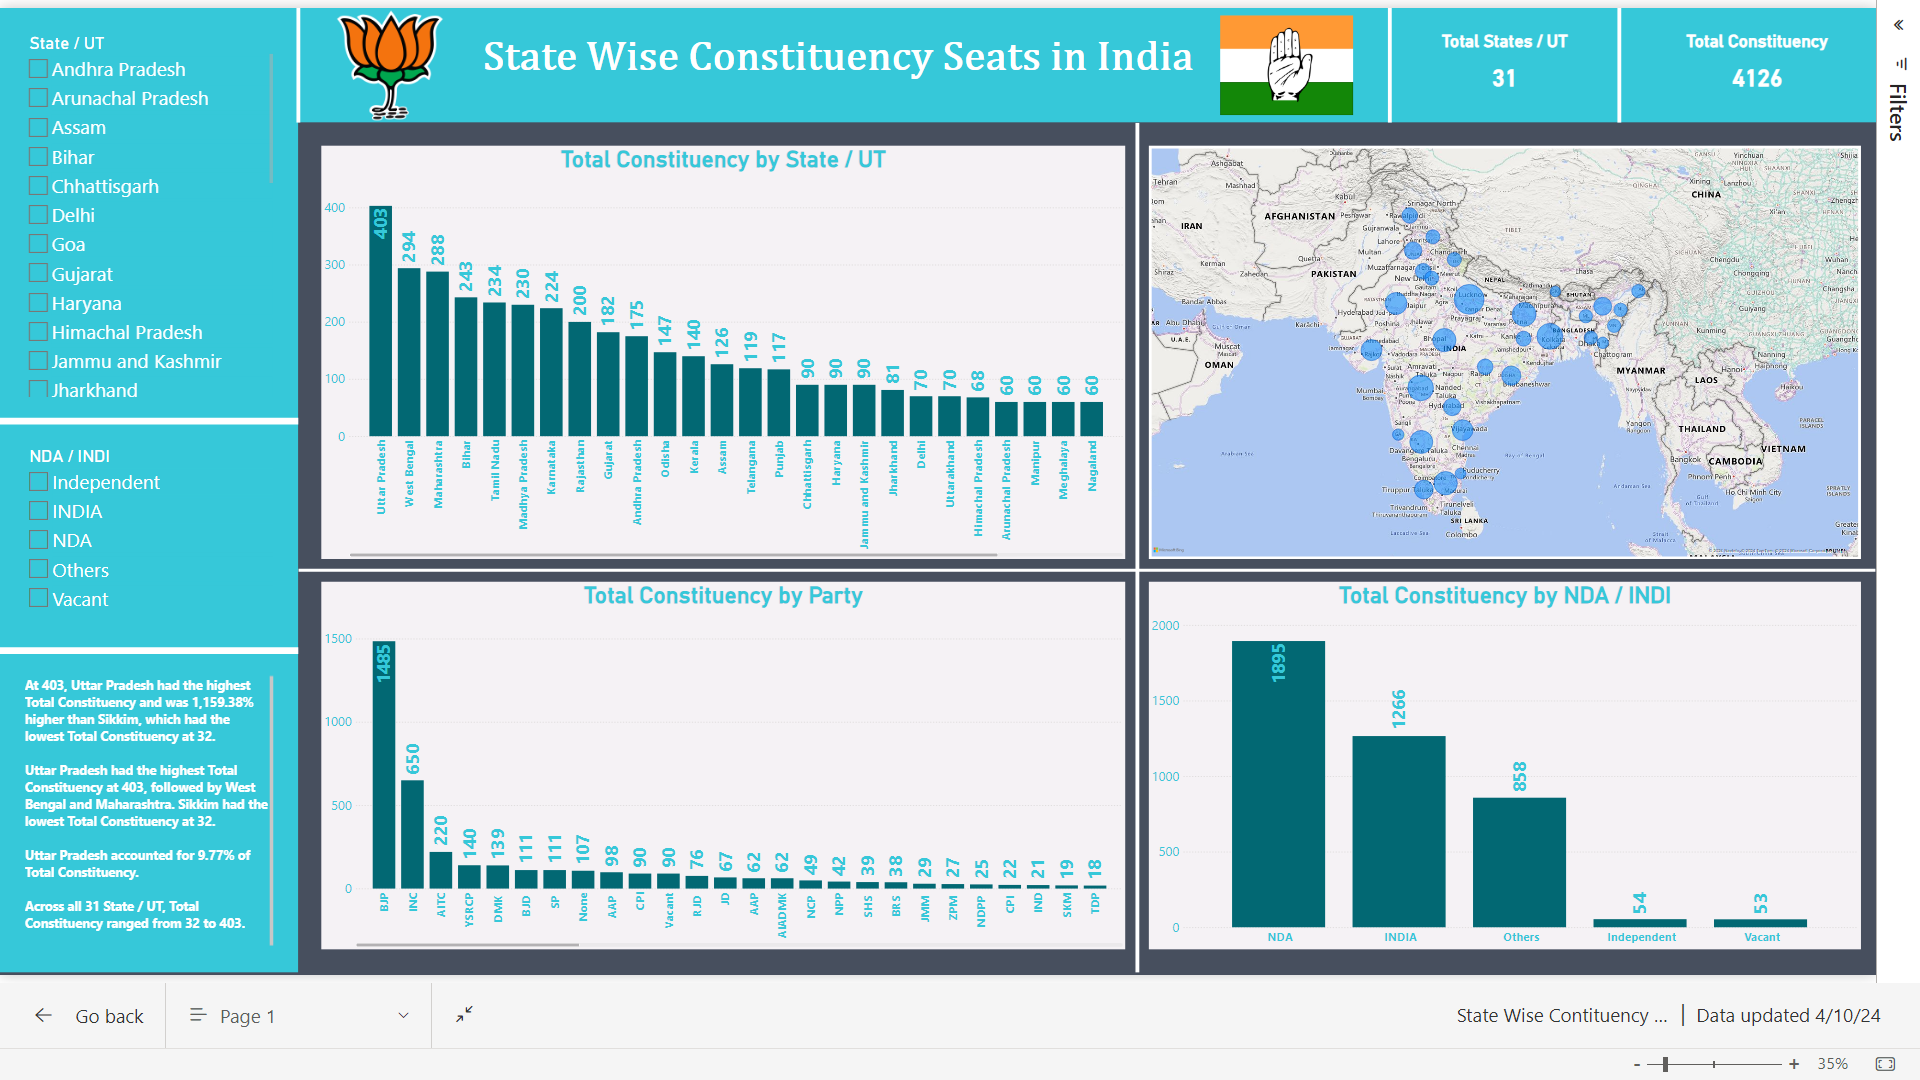

The dashboard page shown, as its layout file describes it:
{"tool":"powerbi","page":{"name":"Page 1","canvas":[3920,2020],"ordinal":0},"visuals":[{"type":"shape","box":[0,0,624,2016],"z":0},{"type":"shape","box":[609,0,3312,240],"z":1},{"type":"card","title":"Total States / UT","fields":{"Values":["Count(Data.State / UT)"]},"box":[2976,48,336,144],"z":2},{"type":"card","title":"Total Constituency","fields":{"Values":["Sum(Data.Total Constituency)"]},"box":[3456,48,432,144],"z":3},{"type":"clusteredColumnChart","fields":{"Category":["Data.State / UT"],"Y":["Sum(Data.Total Constituency)"]},"box":[672,288,1680,864],"z":4},{"type":"map","fields":{"Category":["Data.State / UT"],"Size":["Sum(Data.Total Constituency)"]},"box":[2400,288,1488,864],"z":5},{"type":"clusteredColumnChart","fields":{"Y":["Sum(Data.Total Constituency)"],"Category":["Data.Party"]},"box":[672,1200,1680,768],"z":6},{"type":"clusteredColumnChart","fields":{"Y":["Sum(Data.Total Constituency)"],"Category":["Data.NDA / INDI"]},"box":[2400,1200,1488,768],"z":7},{"type":"slicer","fields":{"Values":["Data.State / UT"]},"box":[48,48,528,768],"z":8},{"type":"slicer","fields":{"Values":["Data.NDA / INDI"]},"box":[48,912,528,384],"z":9},{"type":"textbox","box":[48,1392,528,576],"z":10},{"type":"shape","box":[0,720,624,288],"z":11},{"type":"shape","box":[0,1296,624,96],"z":12},{"type":"shape","box":[576,0,96,240],"z":13},{"type":"shape","box":[2352,240,48,1776],"z":14},{"type":"shape","box":[624,1152,3296,48],"z":15},{"type":"textbox","box":[960,48,1584,144],"z":16},{"type":"image","box":[672,0,288,240],"z":17},{"type":"image","box":[2544,0,288,240],"z":18},{"type":"shape","box":[2880,0,48,240],"z":19},{"type":"shape","box":[3360,0,48,240],"z":20}]}

Visuals, with their boxes in screenshot pixels (x1, y1, x2, y2):
shape: x1=0, y1=0, x2=291, y2=974
shape: x1=284, y1=0, x2=1884, y2=116
"Total States / UT" card: x1=1427, y1=23, x2=1590, y2=93
"Total Constituency" card: x1=1659, y1=23, x2=1868, y2=93
clusteredColumnChart - Data.State / UT x Sum(Data.Total Constituency): x1=315, y1=139, x2=1126, y2=556
map - Data.State / UT x Sum(Data.Total Constituency): x1=1149, y1=139, x2=1868, y2=556
clusteredColumnChart - Sum(Data.Total Constituency) x Data.Party: x1=315, y1=580, x2=1126, y2=951
clusteredColumnChart - Sum(Data.Total Constituency) x Data.NDA / INDI: x1=1149, y1=580, x2=1868, y2=951
slicer - Data.State / UT: x1=13, y1=23, x2=268, y2=394
slicer - Data.NDA / INDI: x1=13, y1=441, x2=268, y2=626
textbox: x1=13, y1=672, x2=268, y2=951
shape: x1=0, y1=348, x2=291, y2=487
shape: x1=0, y1=626, x2=291, y2=672
shape: x1=268, y1=0, x2=315, y2=116
shape: x1=1126, y1=116, x2=1149, y2=974
shape: x1=291, y1=556, x2=1883, y2=580
textbox: x1=454, y1=23, x2=1219, y2=93
image: x1=315, y1=0, x2=454, y2=116
image: x1=1219, y1=0, x2=1358, y2=116
shape: x1=1381, y1=0, x2=1404, y2=116
shape: x1=1613, y1=0, x2=1636, y2=116
